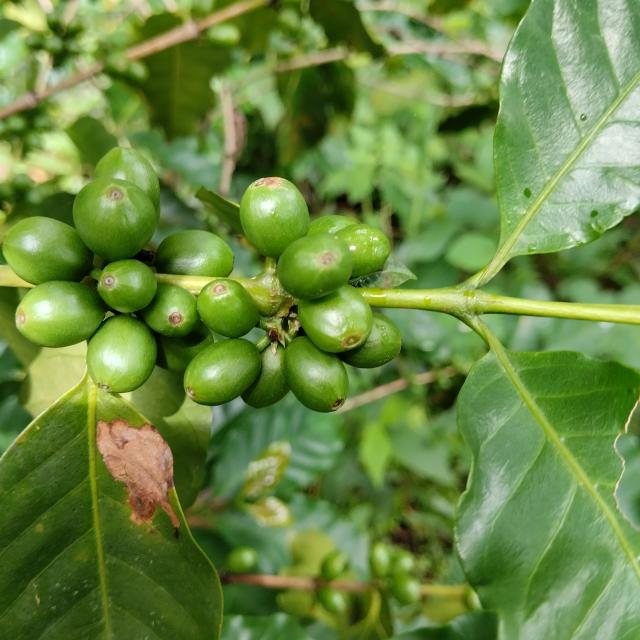green: (72, 178, 158, 261), (2, 216, 93, 285), (14, 281, 106, 348), (240, 176, 310, 259), (86, 315, 156, 393), (183, 338, 261, 406), (298, 284, 373, 353), (277, 232, 354, 299), (284, 336, 349, 413), (92, 146, 159, 215), (154, 230, 234, 277), (197, 278, 259, 338), (338, 312, 402, 368), (97, 259, 156, 313), (241, 344, 290, 409), (140, 284, 200, 337), (335, 224, 391, 278), (308, 215, 359, 234)
